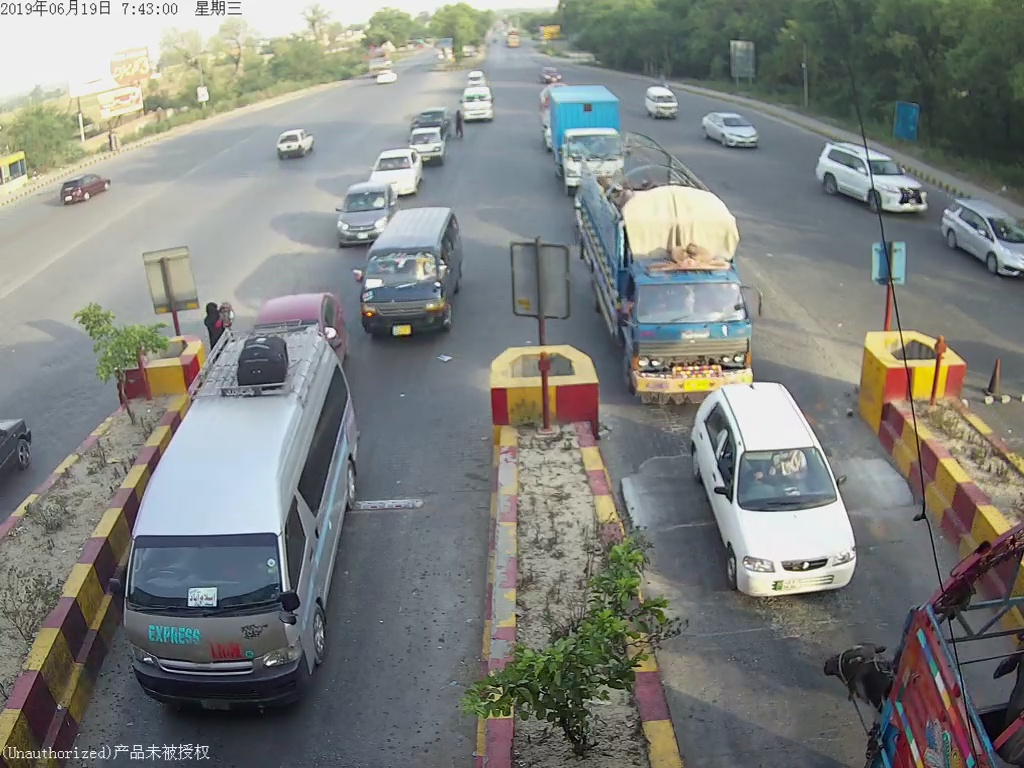Cat-1: (685, 392, 867, 605), (373, 153, 416, 188)
Cat-2: (129, 329, 373, 722), (360, 208, 472, 339)
Cat-4: (582, 144, 760, 381)
